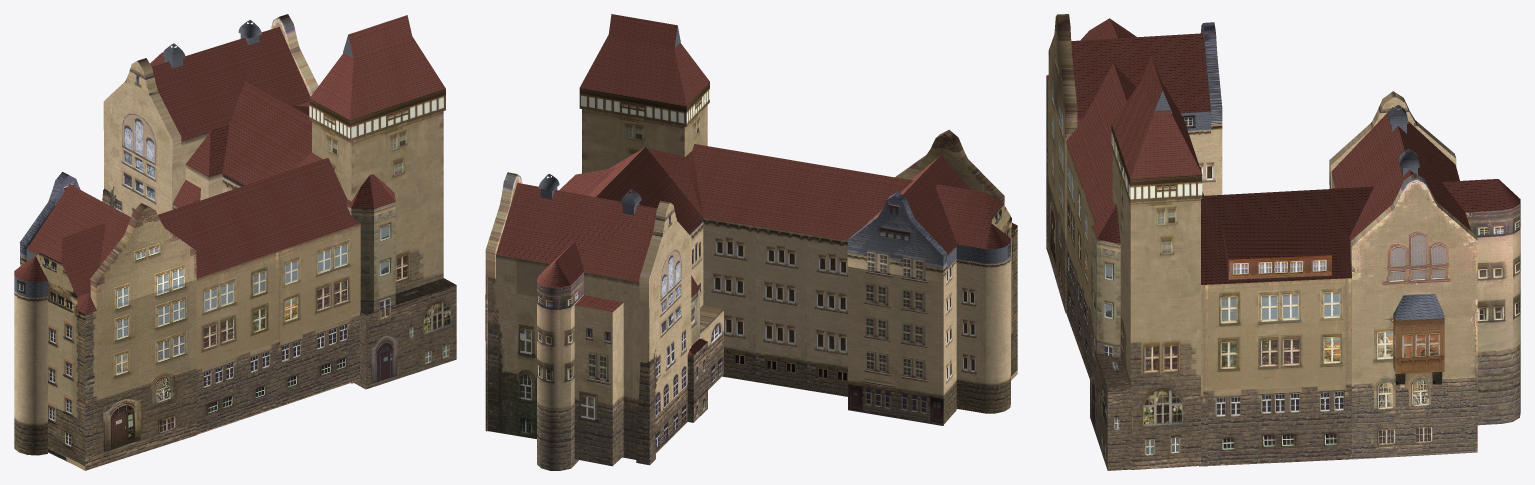
File: 1Tillich-Bau.gltf
3 views of the same model, side by side, from view 1: azimuth 30°, elevation 25°; view 2: azimuth 150°, elevation 25°; view 3: azimuth 270°, elevation 25° (orthographic). The views are drawn at different scales.
Visible parts, largest first — view 1: Dach.1; view 2: Dach.1; view 3: Dach.1.
Part boxes in pixels (box(x1,y1,x2,y2)): Dach.1: box(14, 14, 456, 470); Dach.1: box(485, 14, 1017, 470); Dach.1: box(1046, 14, 1520, 470).
Size of the model in its own units: 44.52 by 33.63 by 38.6.
26 materials, 26 textured.
